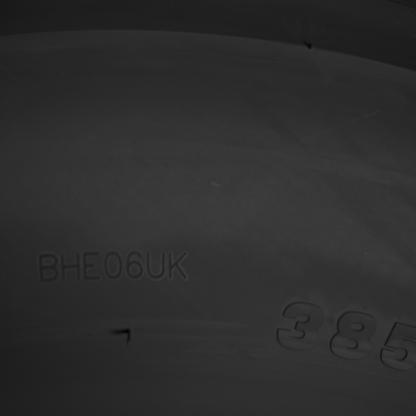ocr: (38, 246, 190, 284)
